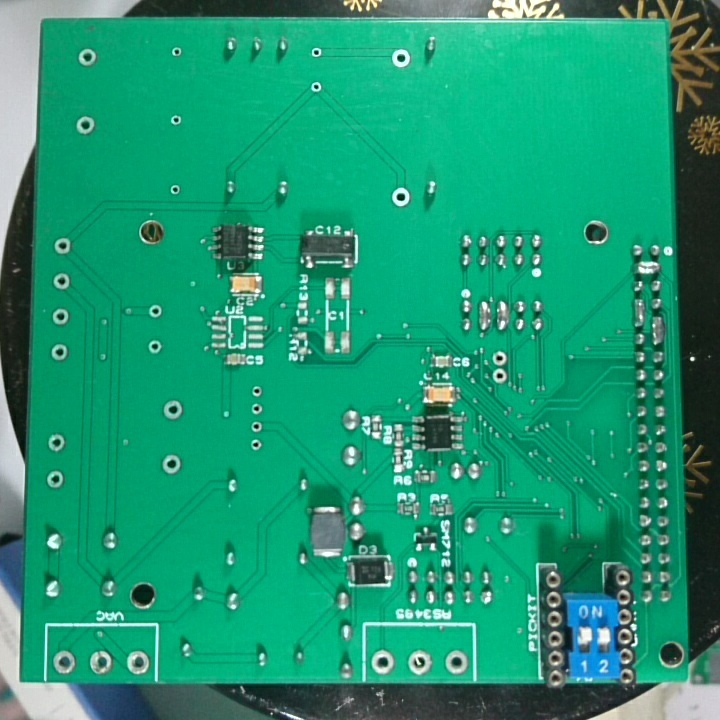F: (159, 396, 186, 424), (369, 647, 395, 676), (443, 647, 468, 677), (51, 648, 76, 675), (159, 449, 182, 478), (405, 649, 428, 678), (45, 429, 69, 456), (88, 648, 111, 676), (388, 185, 414, 209), (388, 45, 414, 69), (43, 466, 67, 492), (123, 648, 145, 675), (74, 113, 97, 138), (75, 46, 99, 69), (49, 271, 73, 294), (51, 236, 75, 258), (48, 341, 70, 363), (50, 306, 71, 329), (488, 366, 509, 386), (490, 349, 511, 368), (167, 110, 185, 132), (247, 418, 266, 438), (247, 399, 267, 418), (147, 335, 164, 356), (147, 301, 165, 320), (248, 381, 266, 400), (308, 78, 324, 98), (166, 181, 184, 198), (247, 437, 264, 454), (168, 43, 185, 59), (308, 45, 325, 60)
P: (474, 297, 493, 334), (631, 259, 664, 278), (648, 314, 666, 348), (630, 297, 648, 330), (494, 297, 508, 333)
